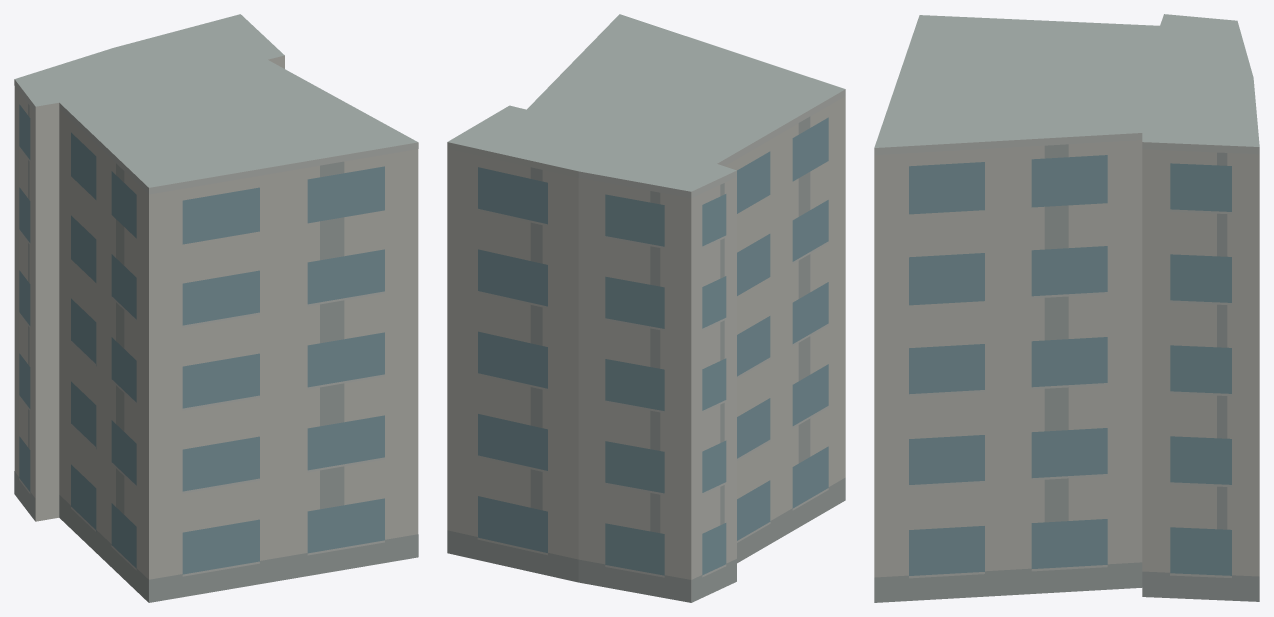
File: survey-upis-32764339.glb
3 views of the same model, side by side, from view 1: azimuth 30°, elevation 25°; view 2: azimuth 150°, elevation 25°; view 3: azimuth 270°, elevation 25° (orthographic). The views are drawn at different scales.
Parts seen in each view (by area): view 1: survey-upis-32764339.tmp; view 2: survey-upis-32764339.tmp; view 3: survey-upis-32764339.tmp.
Boxes of the visible parts, bbox=[...] form: survey-upis-32764339.tmp: bbox=[14, 14, 418, 602]; survey-upis-32764339.tmp: bbox=[447, 14, 845, 602]; survey-upis-32764339.tmp: bbox=[874, 14, 1259, 602].
Bounding box in the file's own units: 9.65 × 15.25 × 11.73.
